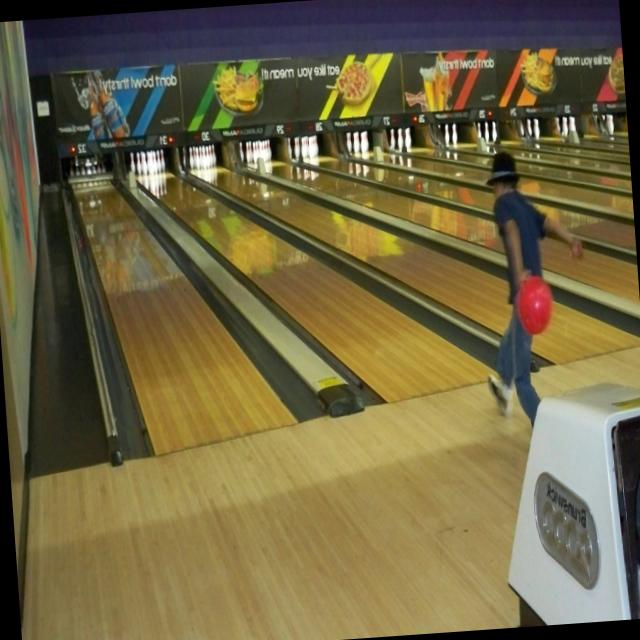Ball: (514, 275, 555, 335)
